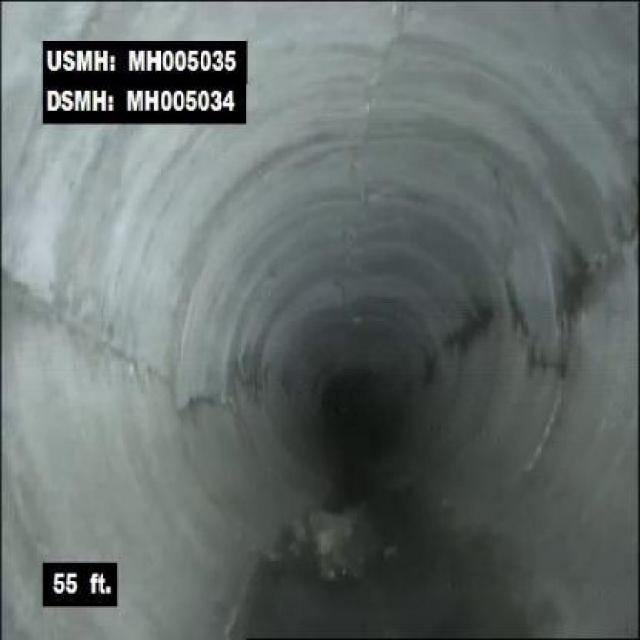Crack: (0, 242, 165, 384), (360, 6, 415, 140), (566, 222, 637, 289)
Debris: (295, 503, 391, 592)
